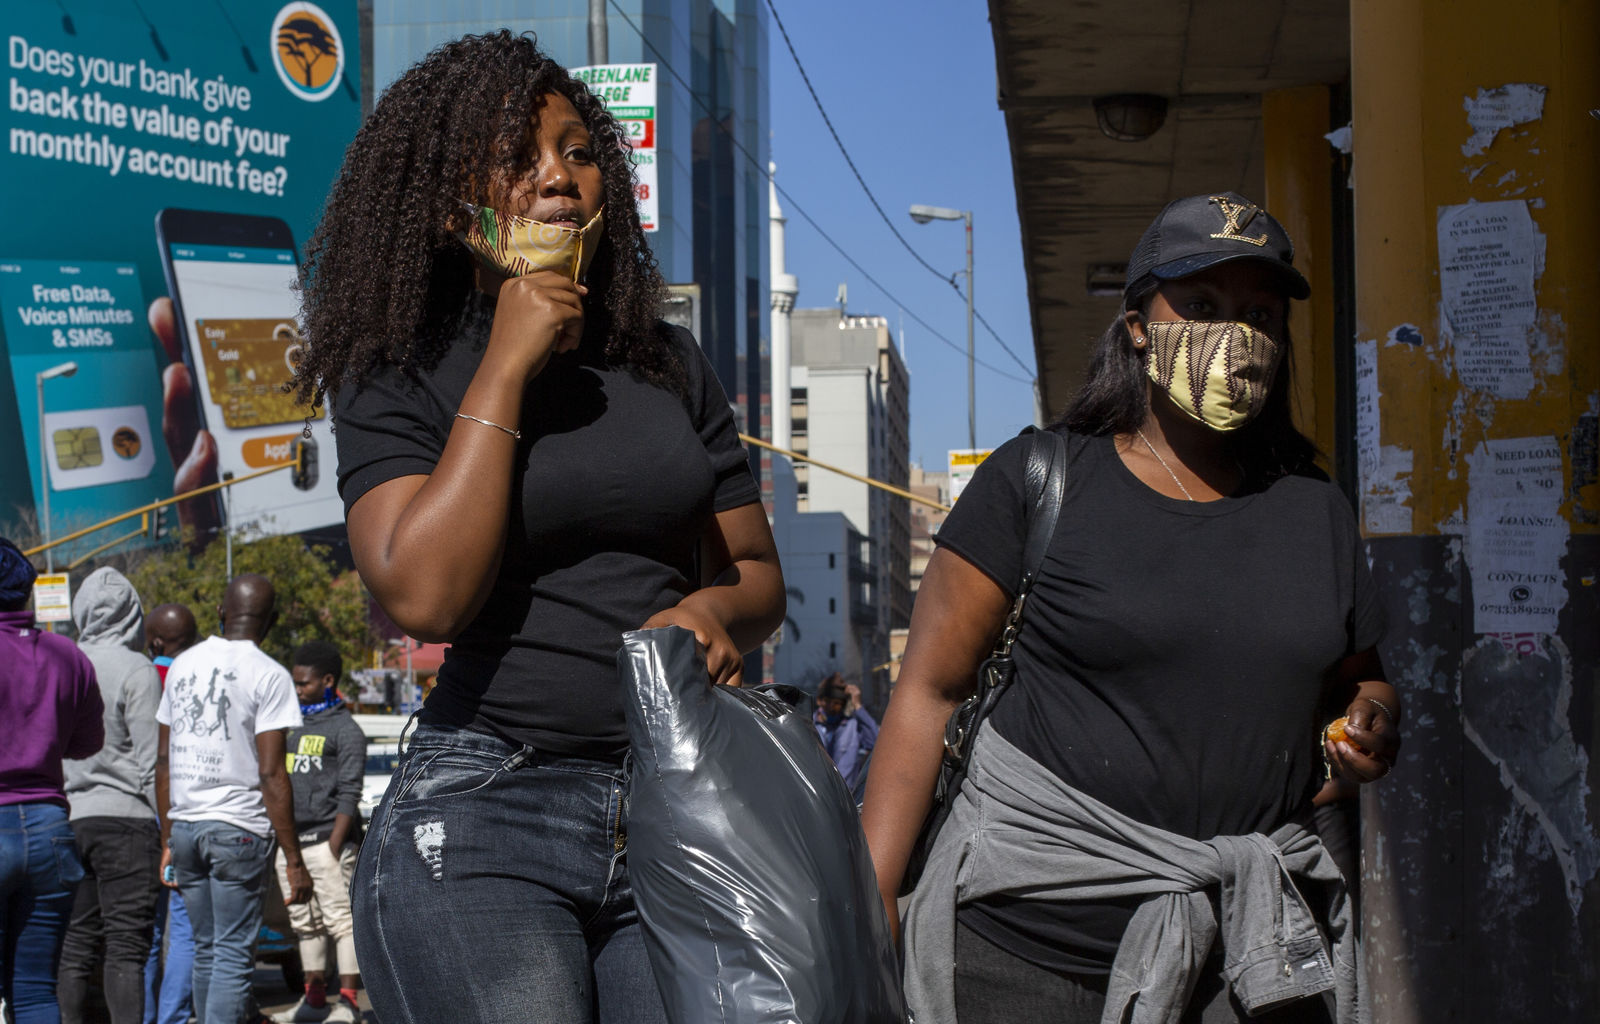with_incorrect_mask: (487, 125, 595, 272)
with_mask: (1167, 283, 1277, 412)
